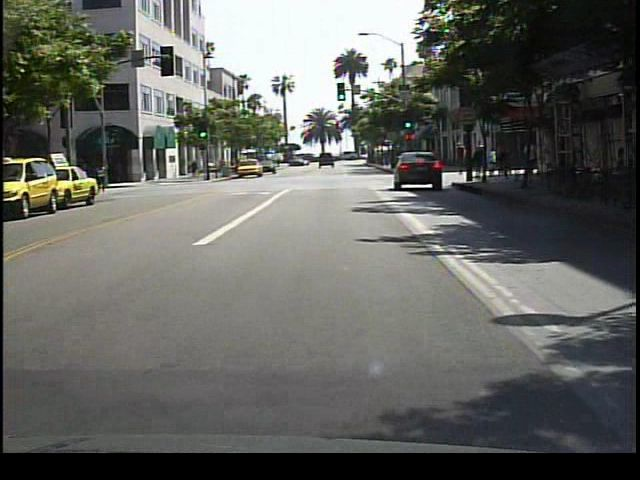person: (451, 139, 468, 181)
